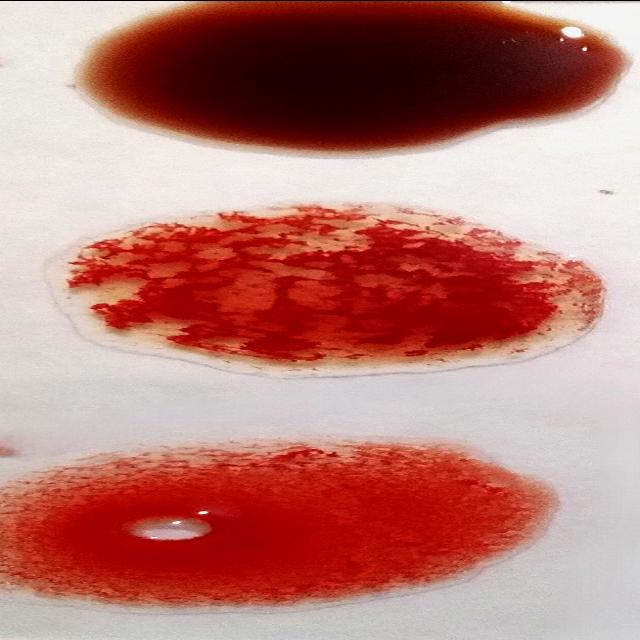B: (86, 209, 576, 370)
D: (0, 448, 540, 612)
